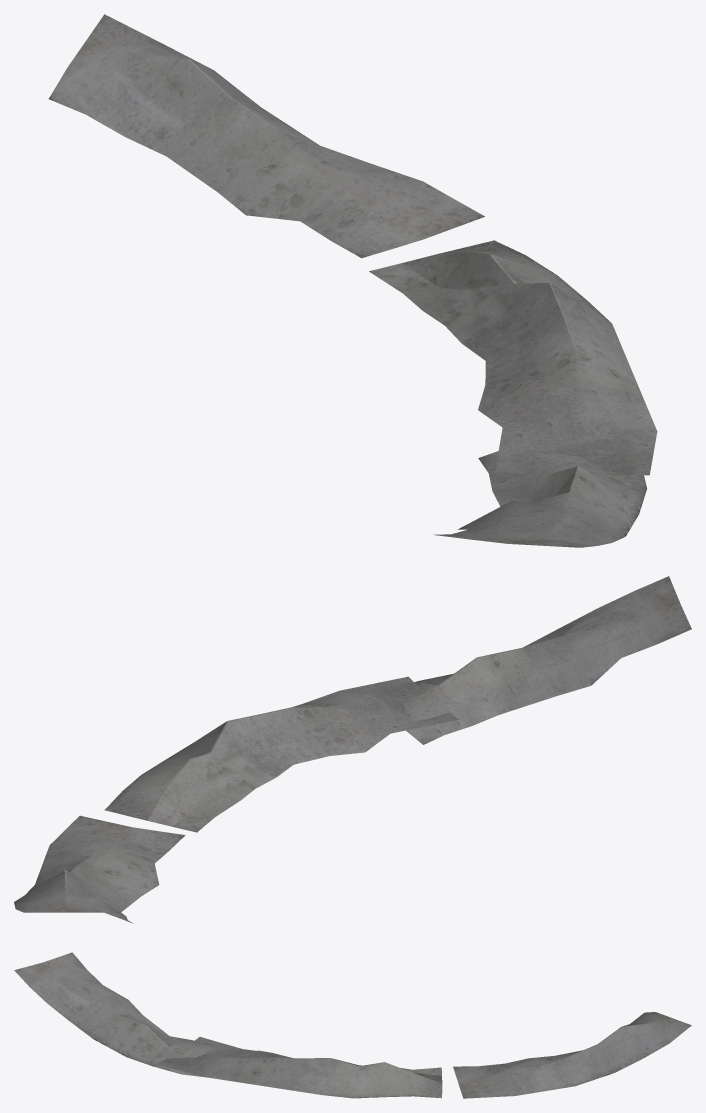
3 views of the same model, one above another, from view 1: azimuth 30°, elevation 25°; view 2: azimuth 150°, elevation 25°; view 3: azimuth 270°, elevation 25° (orthographic). The views are drawn at different scales.
Visible parts, largest first — view 1: Cube.013; view 2: Cube.013; view 3: Cube.013.
Part boxes in pixels (bbox=[...]): Cube.013: bbox=[49, 14, 657, 547]; Cube.013: bbox=[14, 576, 691, 923]; Cube.013: bbox=[14, 952, 691, 1098].
Bounding box in the file's own units: 1083 × 230 × 2866.
